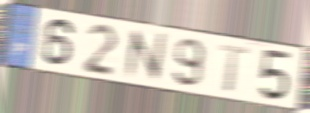2: (82, 22, 121, 79)
5: (256, 47, 295, 104)
6: (41, 18, 76, 68)
9: (172, 37, 207, 90)
N: (123, 27, 168, 83)
T: (218, 43, 251, 95)
